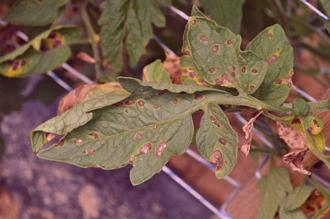Tomato Early blight leaf: (28, 82, 217, 181), (182, 18, 268, 93), (0, 23, 83, 76), (195, 97, 241, 181)
